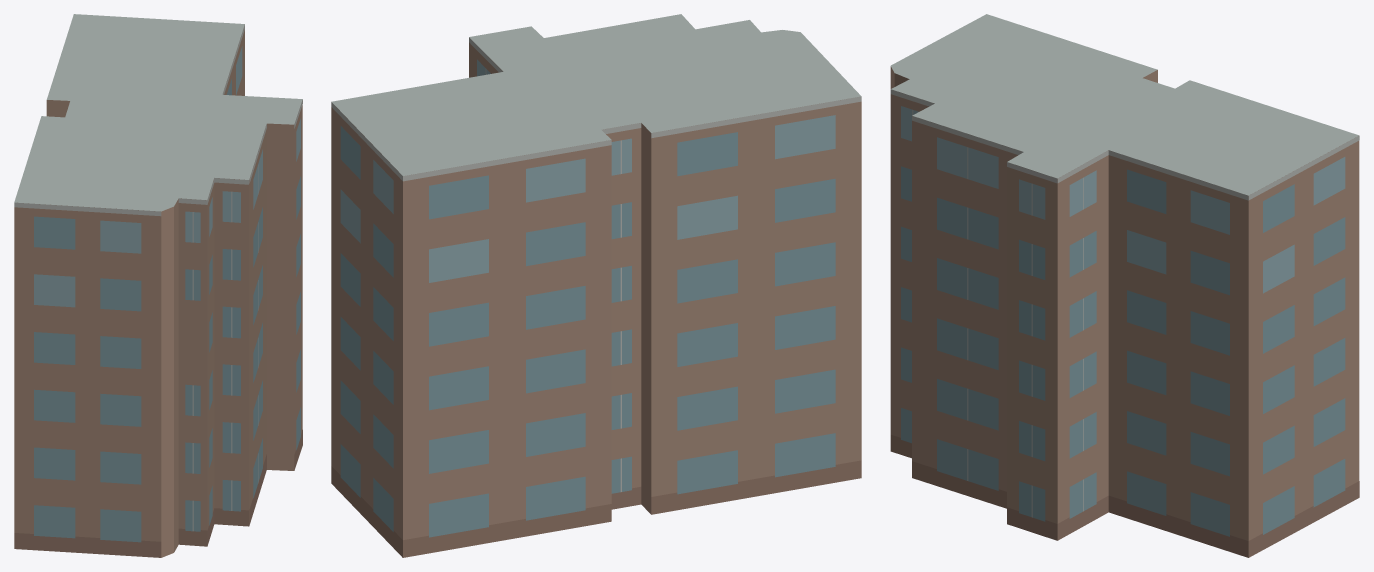
The model's file is survey-upis-32633273.glb.
3 views of the same model, side by side, from view 1: azimuth 30°, elevation 25°; view 2: azimuth 150°, elevation 25°; view 3: azimuth 270°, elevation 25° (orthographic). The views are drawn at different scales.
Parts seen in each view (by area): view 1: survey-upis-32633273.tmp; view 2: survey-upis-32633273.tmp; view 3: survey-upis-32633273.tmp.
Part boxes in pixels (x1,y1,x2,y2): survey-upis-32633273.tmp: (14, 14, 302, 557); survey-upis-32633273.tmp: (331, 14, 861, 557); survey-upis-32633273.tmp: (890, 14, 1359, 557).
Size of the model in its own units: 19.26 by 17.9 by 21.01.
